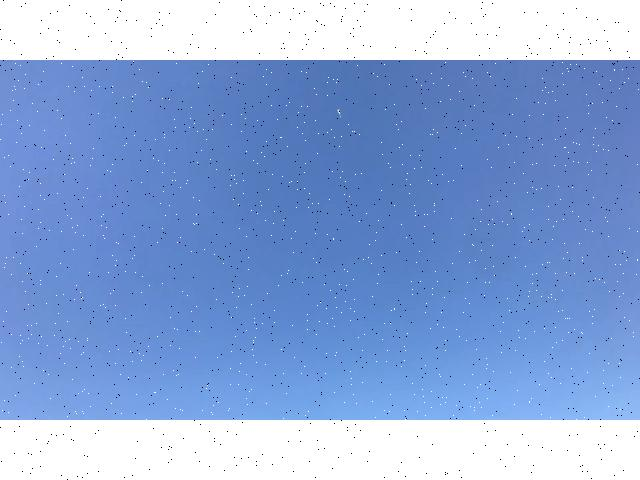Anti-Drone: (328, 104, 350, 127)
